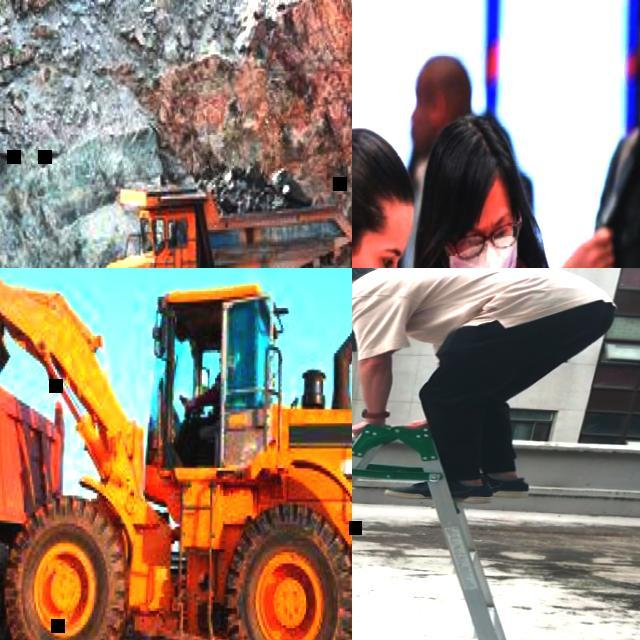Robbery: (354, 272, 629, 514), (420, 101, 548, 268), (561, 110, 640, 263), (176, 327, 261, 456), (355, 110, 420, 265), (396, 47, 480, 152)
